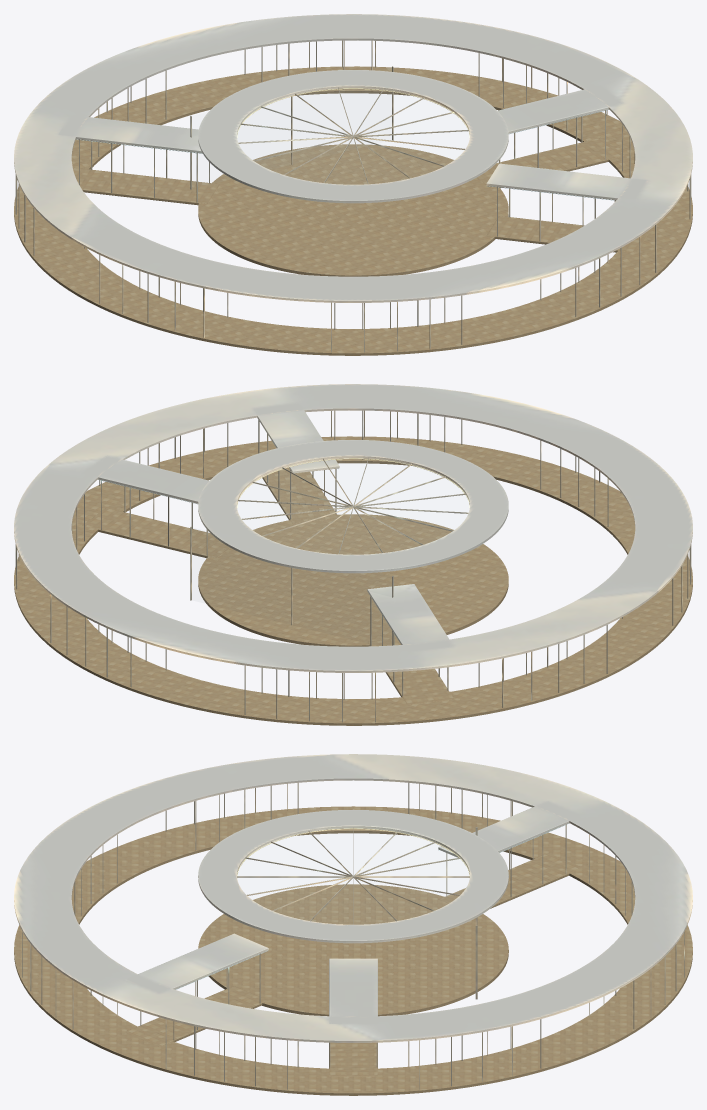
The model's file is concourse.glb.
3 views of the same model, one above another, from view 1: azimuth 30°, elevation 25°; view 2: azimuth 150°, elevation 25°; view 3: azimuth 270°, elevation 25° (orthographic).
Visible parts, largest first — view 1: Baked_concourse; view 2: Baked_concourse; view 3: Baked_concourse.
Boxes of the visible parts, x1,y1,x2,y2 form: Baked_concourse: (14, 14, 692, 355); Baked_concourse: (14, 384, 692, 725); Baked_concourse: (14, 754, 692, 1095).
Size of the model in its own units: 61.2 by 7.69 by 61.2.
7 materials, 2 textured.
